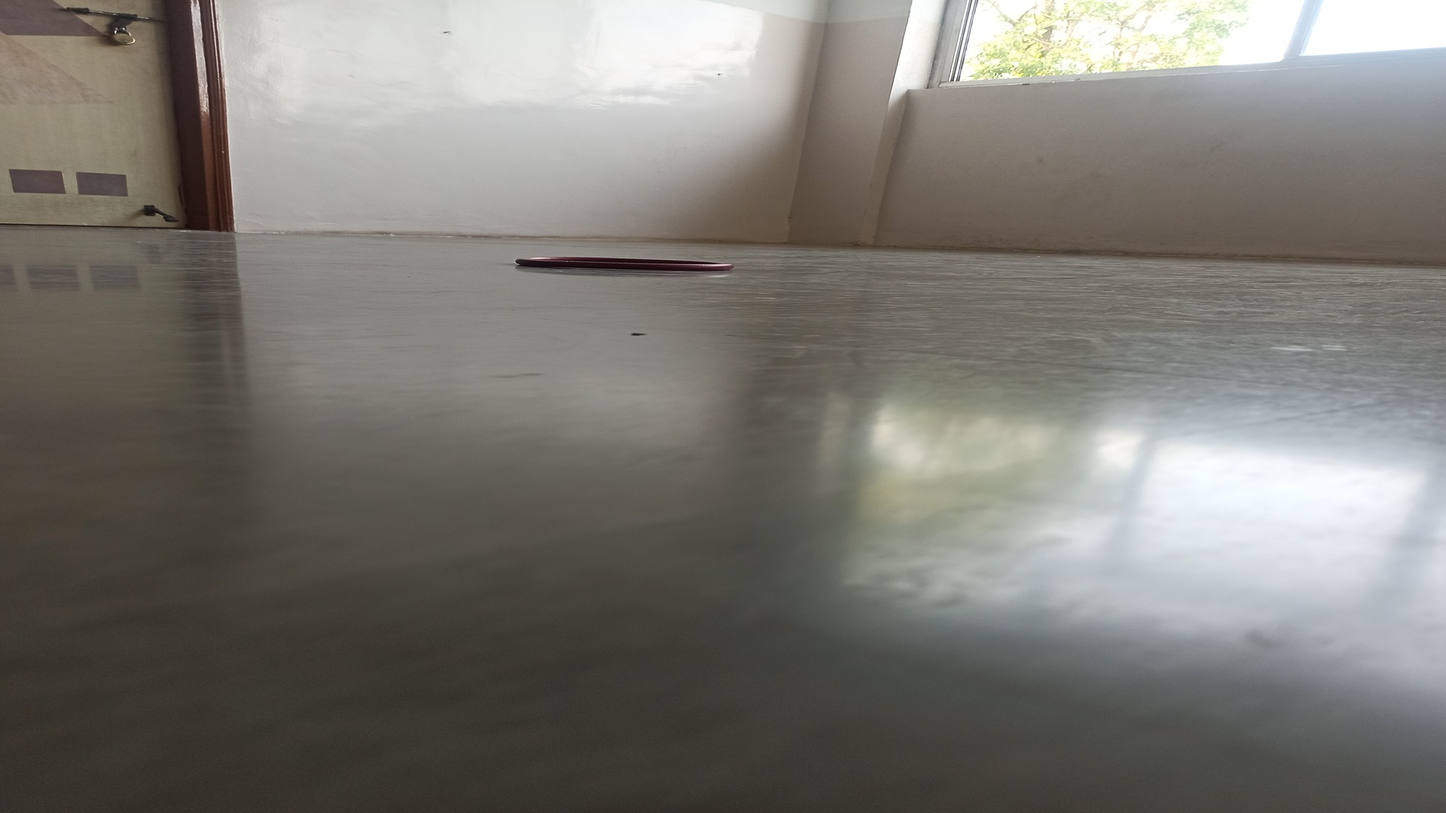Red ring: (517, 254, 736, 275)
